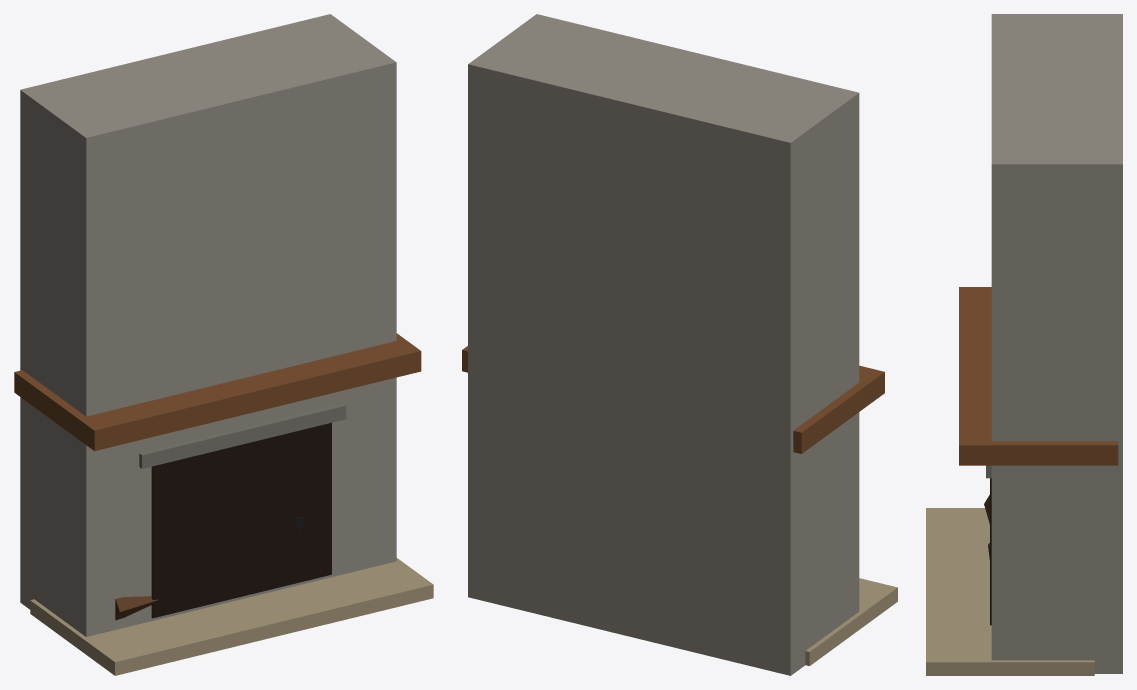
The model's file is fireplace.glb.
The picture shows the model from 3 angles, left to right: view 1: azimuth 30°, elevation 25°; view 2: azimuth 150°, elevation 25°; view 3: azimuth 270°, elevation 25°; orthographic projection. The views are drawn at different scales.
Parts seen in each view (by area): view 1: furniture-fireplace; view 2: furniture-fireplace; view 3: furniture-fireplace.
Part boxes in pixels (x1,y1,x2,y2): furniture-fireplace: (14, 14, 433, 675); furniture-fireplace: (462, 14, 897, 675); furniture-fireplace: (926, 14, 1122, 675).
Size of the model in its own units: 1.85 by 2.77 by 0.97.
